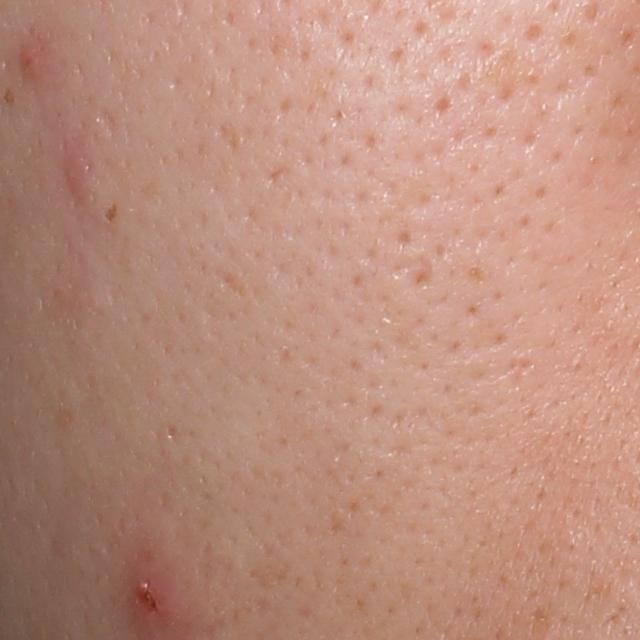atrophic_scar: (212, 267, 249, 299), (101, 108, 119, 137)
papule: (129, 569, 170, 632), (14, 48, 42, 79), (62, 161, 85, 194)
